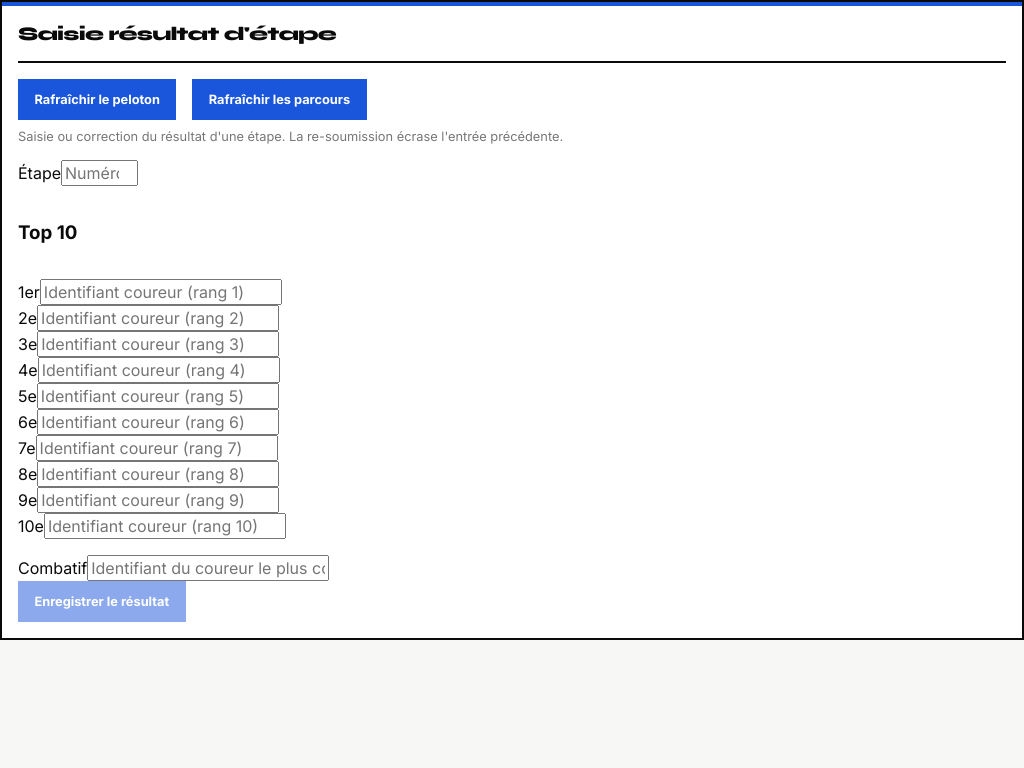
Test: TdfAdmin › affiche la confirmation après soumission
The image size is (1024, 768).
Type "2" into the number field labelled "Étape".
click(100, 173); type("2")  # box [61,160,138,186]
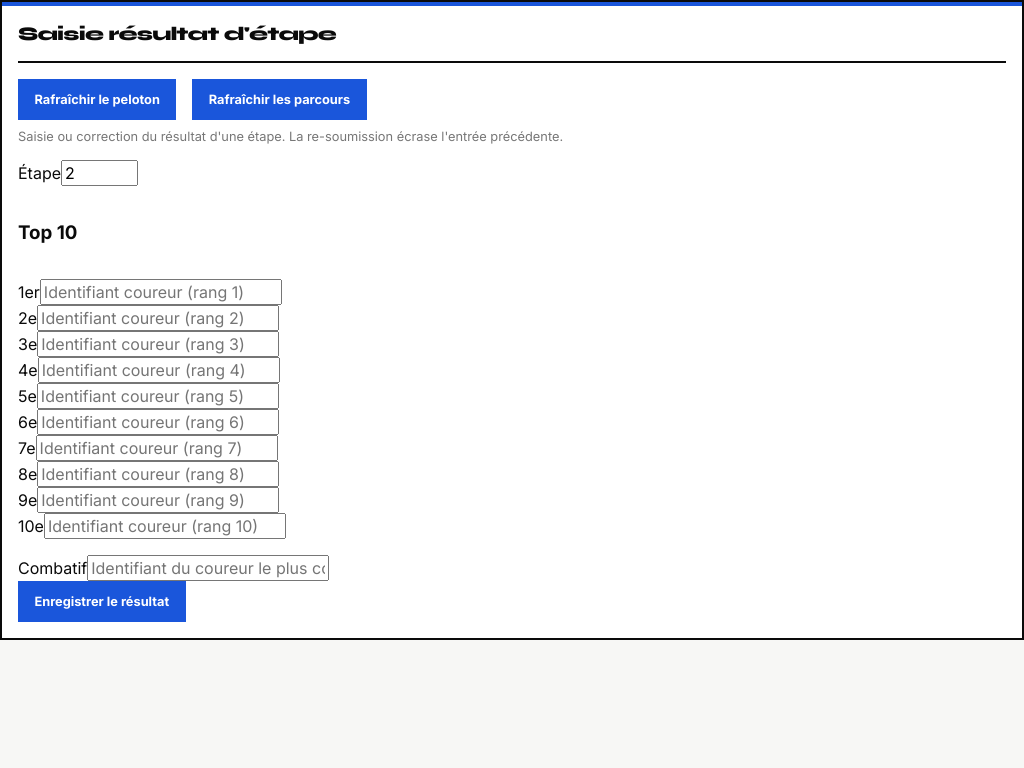
Click the button "Enregistrer le résultat".
click(102, 601)  # box [18,581,186,622]
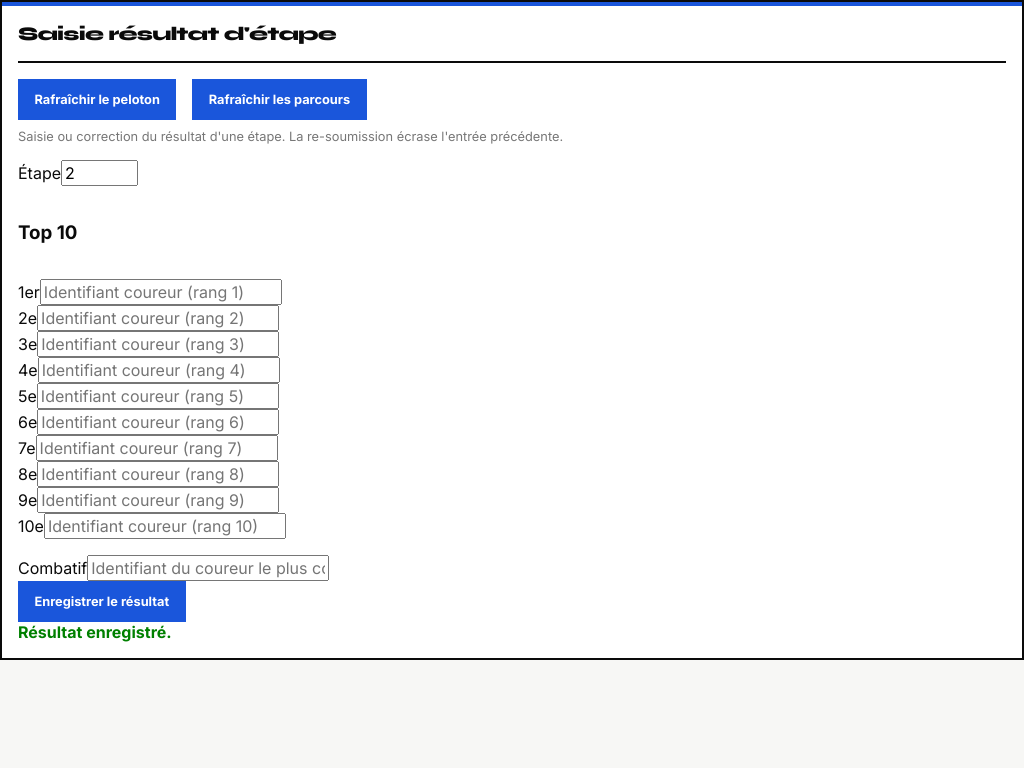
Expected: the text "Résultat enregistré." is shown, [18,622,172,642]
